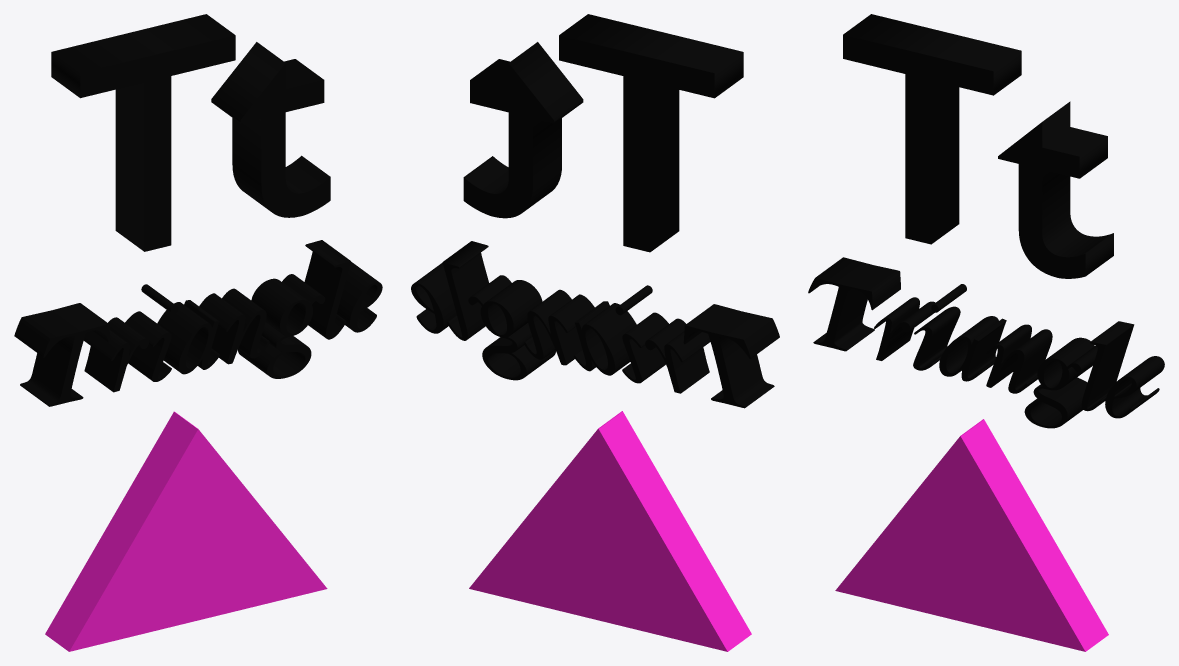
File: Letter_T.glb
The picture shows the model from 3 angles, left to right: view 1: azimuth 30°, elevation 25°; view 2: azimuth 150°, elevation 25°; view 3: azimuth 330°, elevation 25°; orthographic projection. The views are drawn at different scales.
Parts seen in each view (by area): view 1: Text, Text.001, Cube.001, Cube.002; view 2: Text, Text.001, Cube.001, Cube.002; view 3: Text, Text.001, Cube.002, Cube.001.
Boxes of the visible parts, x1=… form: Text: x1=51, y1=14, x2=330, y2=251; Text.001: x1=14, y1=240, x2=382, y2=406; Cube.001: x1=45, y1=411, x2=198, y2=651; Cube.002: x1=174, y1=412, x2=327, y2=620; Text: x1=463, y1=14, x2=743, y2=252; Text.001: x1=411, y1=241, x2=779, y2=408; Cube.001: x1=598, y1=411, x2=751, y2=651; Cube.002: x1=469, y1=411, x2=622, y2=620; Text: x1=843, y1=14, x2=1113, y2=278; Text.001: x1=808, y1=257, x2=1164, y2=428; Cube.002: x1=960, y1=419, x2=1108, y2=651; Cube.001: x1=835, y1=419, x2=983, y2=621.
Size of the model in its own units: 0.8092 by 1.32 by 0.1214.
